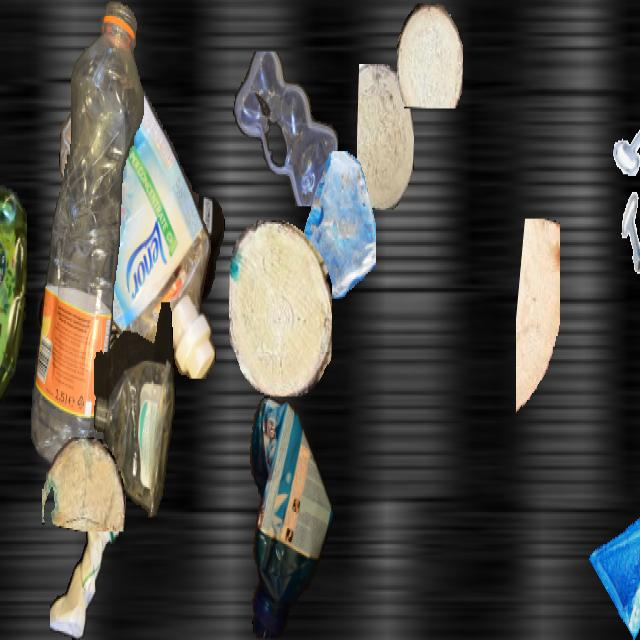glass: (293, 151, 375, 297), (588, 478, 640, 638)
metal: (614, 192, 640, 274), (613, 105, 640, 183)
plastic: (31, 2, 143, 471), (58, 71, 218, 377), (37, 197, 225, 439), (244, 393, 332, 638), (94, 302, 176, 519), (233, 52, 339, 205), (50, 489, 118, 638), (0, 183, 26, 446)
wood: (229, 220, 331, 394), (516, 219, 560, 425), (357, 64, 413, 210), (42, 437, 126, 530), (397, 3, 463, 106)
